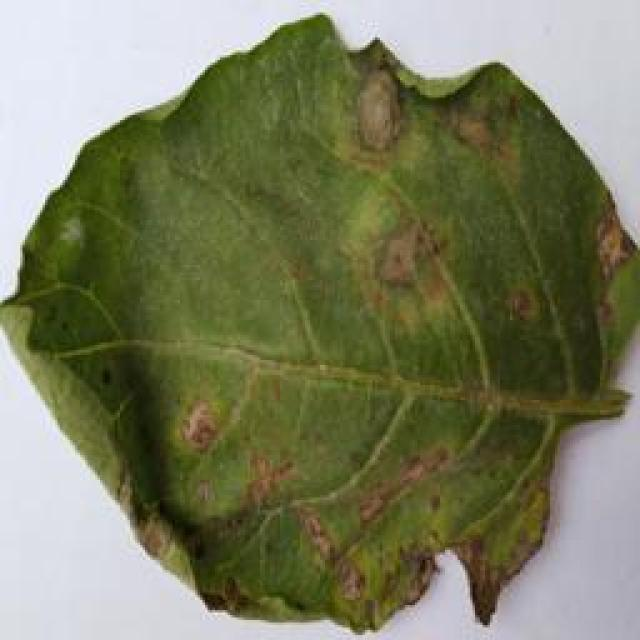Potato_Late_Blight: (0, 7, 628, 635)
